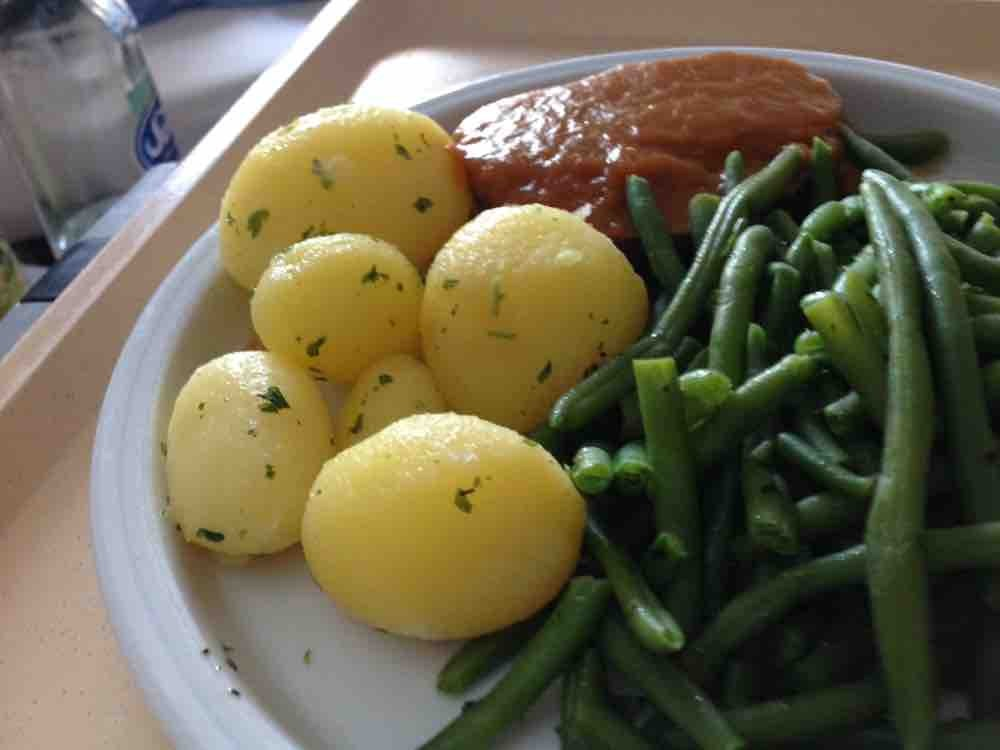boiled peas: (613, 179, 1000, 703)
boiled potatoes: (328, 427, 561, 629), (427, 215, 636, 418), (233, 117, 458, 269), (173, 357, 323, 559), (252, 248, 418, 364)
